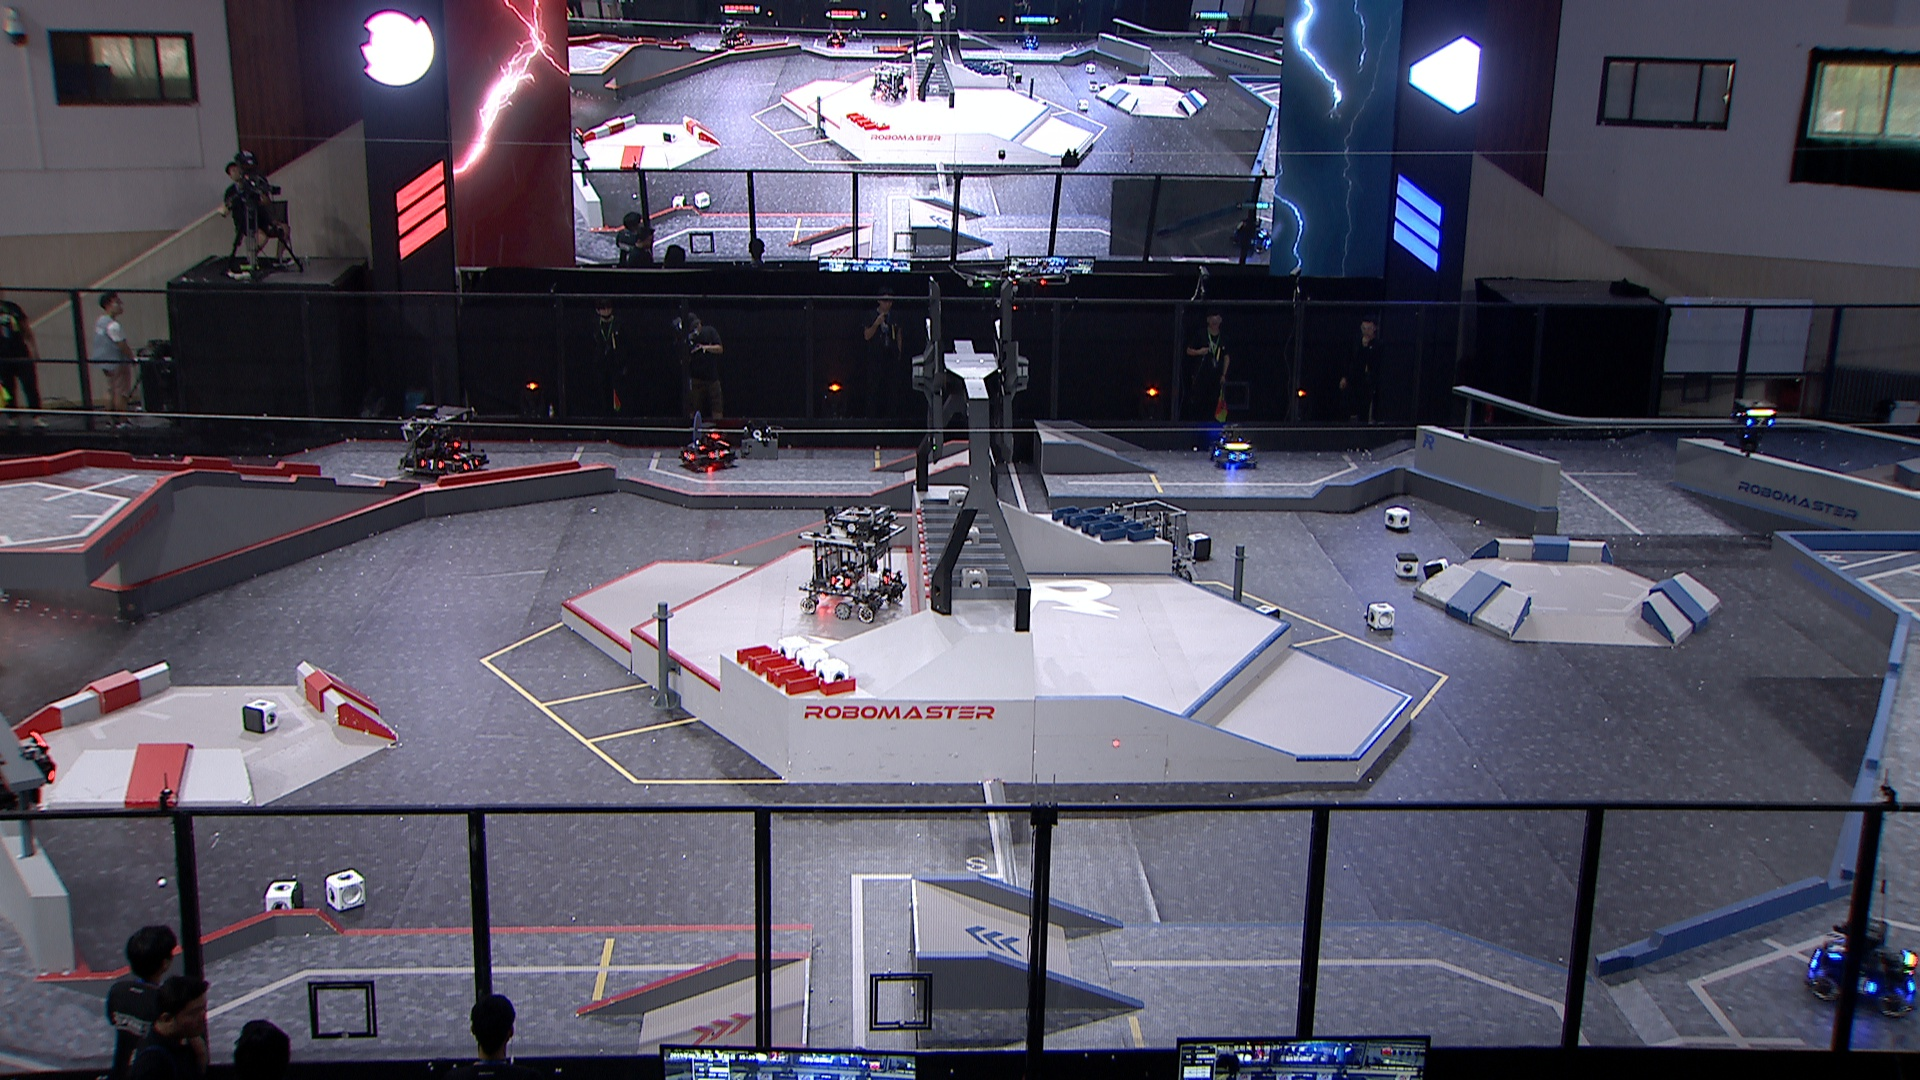armor: (1845, 969, 1878, 1000), (1822, 936, 1849, 964), (1745, 411, 1778, 431), (418, 455, 448, 472), (828, 572, 852, 591), (448, 444, 473, 462), (704, 444, 727, 462), (460, 455, 480, 473), (1229, 451, 1249, 465), (680, 448, 698, 462), (882, 570, 895, 585)
car: (796, 505, 910, 624), (1804, 913, 1920, 1015), (1102, 498, 1196, 585), (398, 398, 493, 477), (676, 425, 740, 472), (1209, 419, 1258, 471)
ignore: (1228, 211, 1271, 255), (869, 59, 909, 105), (713, 12, 756, 50), (982, 59, 1021, 92), (1015, 26, 1044, 53), (823, 25, 851, 50), (1195, 24, 1218, 47)
watcher: (1727, 392, 1780, 460)
